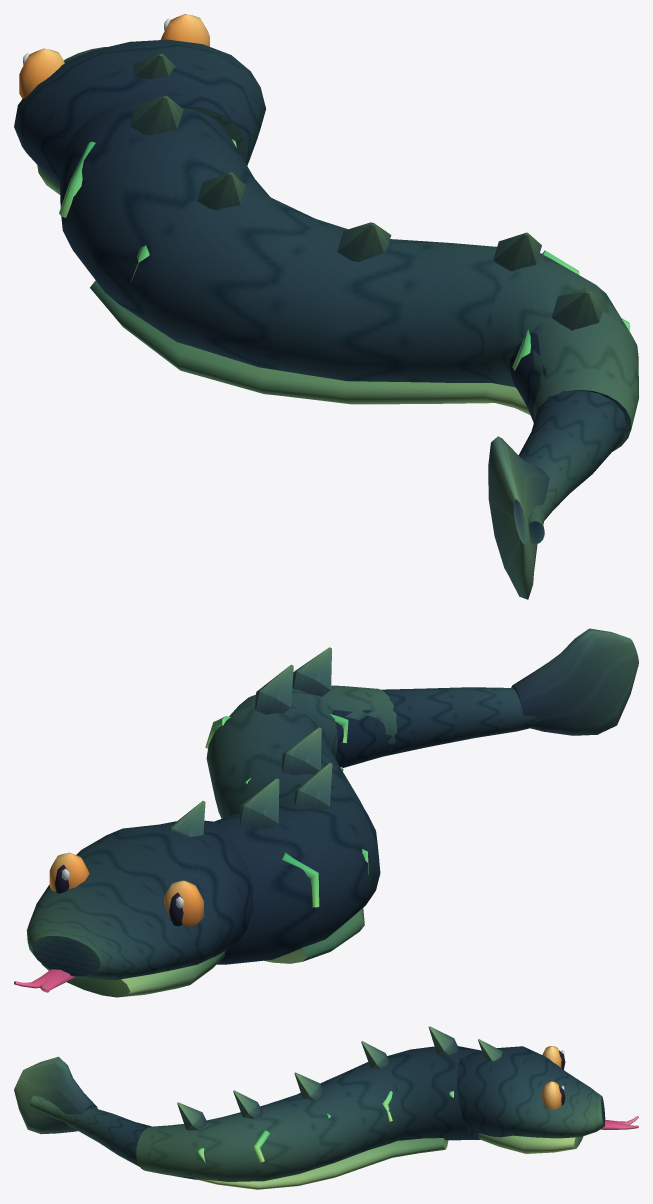
Rendered from C154_Mamba_das_Mares.glb.
3 views of the same model, one above another, from view 1: azimuth 30°, elevation 25°; view 2: azimuth 150°, elevation 25°; view 3: azimuth 270°, elevation 25° (orthographic). The views are drawn at different scales.
Visible parts, largest first — view 1: Body, Head, Tail, Shell, Fins, Extra_2, Extra_1; view 2: Body, Head, Tail, Fins, Shell, Extra_2, Extra_1, Extra_3; view 3: Body, Head, Fins, Tail, Shell, Extra_2, Extra_1, Extra_3.
Boxes of the visible parts, box(x1,y1,x2,y2) form: Body: box(60, 99, 638, 451); Head: box(14, 18, 265, 194); Tail: box(509, 333, 626, 543); Shell: box(129, 53, 605, 330); Fins: box(488, 436, 549, 599); Extra_2: box(19, 14, 209, 98); Extra_1: box(59, 139, 630, 370); Body: box(206, 685, 397, 964); Head: box(26, 820, 253, 997); Tail: box(332, 687, 544, 767); Fins: box(511, 628, 638, 735); Shell: box(169, 647, 332, 836); Extra_2: box(49, 852, 203, 926); Extra_1: box(205, 714, 368, 907); Extra_3: box(14, 969, 75, 992); Body: box(136, 1046, 480, 1189); Head: box(457, 1046, 605, 1153); Fins: box(14, 1056, 97, 1134); Tail: box(30, 1095, 197, 1179); Shell: box(177, 1026, 502, 1130); Extra_2: box(541, 1046, 561, 1110); Extra_1: box(197, 1046, 462, 1162); Extra_3: box(600, 1116, 638, 1129).
Size of the model in its own units: 0.2815 by 0.1909 by 0.8792.
1 material, 1 textured.
